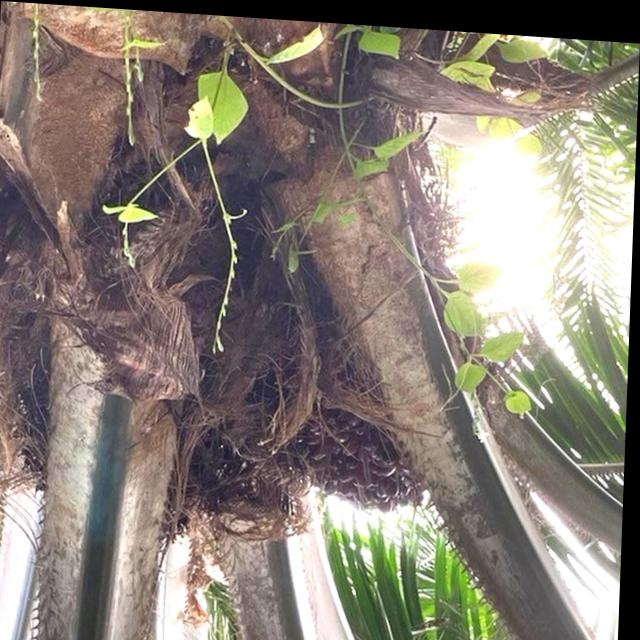ripe: (270, 284, 448, 521)
